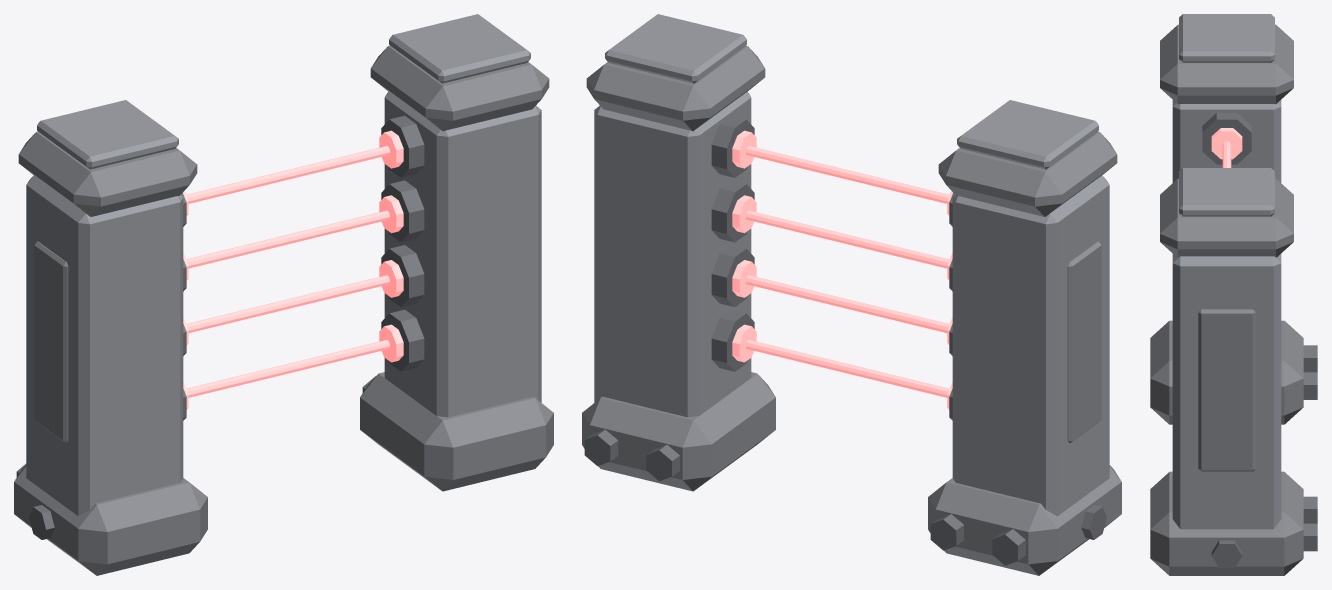
The model's file is LaserGate.fbx.
3 views of the same model, side by side, from view 1: azimuth 30°, elevation 25°; view 2: azimuth 150°, elevation 25°; view 3: azimuth 270°, elevation 25° (orthographic). The views are drawn at different scales.
Visible parts, largest first — view 1: LaserGate.PillarLColumn, LaserGate.PillarRColumn, LaserGate.PillarRFoot, LaserGate.PillarLFoot, LaserGate.PillarRCap, LaserGate.PillarLCap, LaserGate.PillarLPanel, LaserGate.PillarREmitters, LaserGate.PillarLCapTop, LaserGate.PillarRCapTop, LaserGate.PillarRCores, LaserGate.Beam2 (+4 smaller); view 2: LaserGate.PillarLColumn, LaserGate.PillarRColumn, LaserGate.PillarRFoot, LaserGate.PillarLFoot, LaserGate.PillarRCap, LaserGate.PillarLCap, LaserGate.PillarLPanel, LaserGate.PillarREmitters, LaserGate.PillarLCapTop, LaserGate.PillarRCapTop, LaserGate.PillarRCores, LaserGate.PillarLBolts (+5 smaller); view 3: LaserGate.PillarRColumn, LaserGate.PillarRPanel, LaserGate.PillarRFoot, LaserGate.PillarLCap, LaserGate.PillarRCap, LaserGate.PillarLColumn, LaserGate.PillarLCapTop, LaserGate.PillarRCapTop, LaserGate.PillarLFoot, LaserGate.PillarRBolts, LaserGate.PillarLEmitters, LaserGate.PillarLBolts (+2 smaller).
Part boxes in pixels (bbox=[...]): LaserGate.PillarLColumn: bbox=[26, 175, 183, 516]; LaserGate.PillarRColumn: bbox=[384, 92, 541, 417]; LaserGate.PillarRFoot: bbox=[360, 372, 553, 491]; LaserGate.PillarLFoot: bbox=[14, 465, 207, 575]; LaserGate.PillarRCap: bbox=[370, 45, 549, 131]; LaserGate.PillarLCap: bbox=[18, 131, 197, 216]; LaserGate.PillarLPanel: bbox=[34, 241, 68, 443]; LaserGate.PillarREmitters: bbox=[381, 115, 424, 371]; LaserGate.PillarLCapTop: bbox=[37, 100, 178, 169]; LaserGate.PillarRCapTop: bbox=[389, 14, 530, 83]; LaserGate.PillarRCores: bbox=[379, 130, 403, 362]; LaserGate.Beam2: bbox=[186, 275, 390, 332]; LaserGate.PillarLColumn: bbox=[952, 175, 1109, 516]; LaserGate.PillarRColumn: bbox=[594, 92, 751, 417]; LaserGate.PillarRFoot: bbox=[582, 372, 775, 491]; LaserGate.PillarLFoot: bbox=[928, 465, 1121, 575]; LaserGate.PillarRCap: bbox=[586, 45, 765, 131]; LaserGate.PillarLCap: bbox=[938, 131, 1117, 216]; LaserGate.PillarLPanel: bbox=[1067, 241, 1101, 443]; LaserGate.PillarREmitters: bbox=[711, 115, 754, 371]; LaserGate.PillarLCapTop: bbox=[957, 100, 1098, 169]; LaserGate.PillarRCapTop: bbox=[605, 14, 746, 83]; LaserGate.PillarRCores: bbox=[732, 130, 756, 362]; LaserGate.PillarLBolts: bbox=[930, 505, 1106, 565]; LaserGate.PillarRColumn: bbox=[1172, 254, 1281, 529]; LaserGate.PillarRPanel: bbox=[1198, 309, 1255, 471]; LaserGate.PillarRFoot: bbox=[1150, 471, 1303, 575]; LaserGate.PillarLCap: bbox=[1160, 24, 1293, 104]; LaserGate.PillarRCap: bbox=[1160, 178, 1293, 257]; LaserGate.PillarLColumn: bbox=[1172, 100, 1281, 182]; LaserGate.PillarLCapTop: bbox=[1179, 14, 1274, 62]; LaserGate.PillarRCapTop: bbox=[1179, 168, 1274, 216]; LaserGate.PillarLFoot: bbox=[1150, 320, 1303, 424]; LaserGate.PillarRBolts: bbox=[1211, 496, 1317, 567]; LaserGate.PillarLEmitters: bbox=[1202, 112, 1251, 164]; LaserGate.PillarLBolts: bbox=[1303, 345, 1317, 399].
Size of the model in its own units: 7.98 by 6.4 by 2.62.
